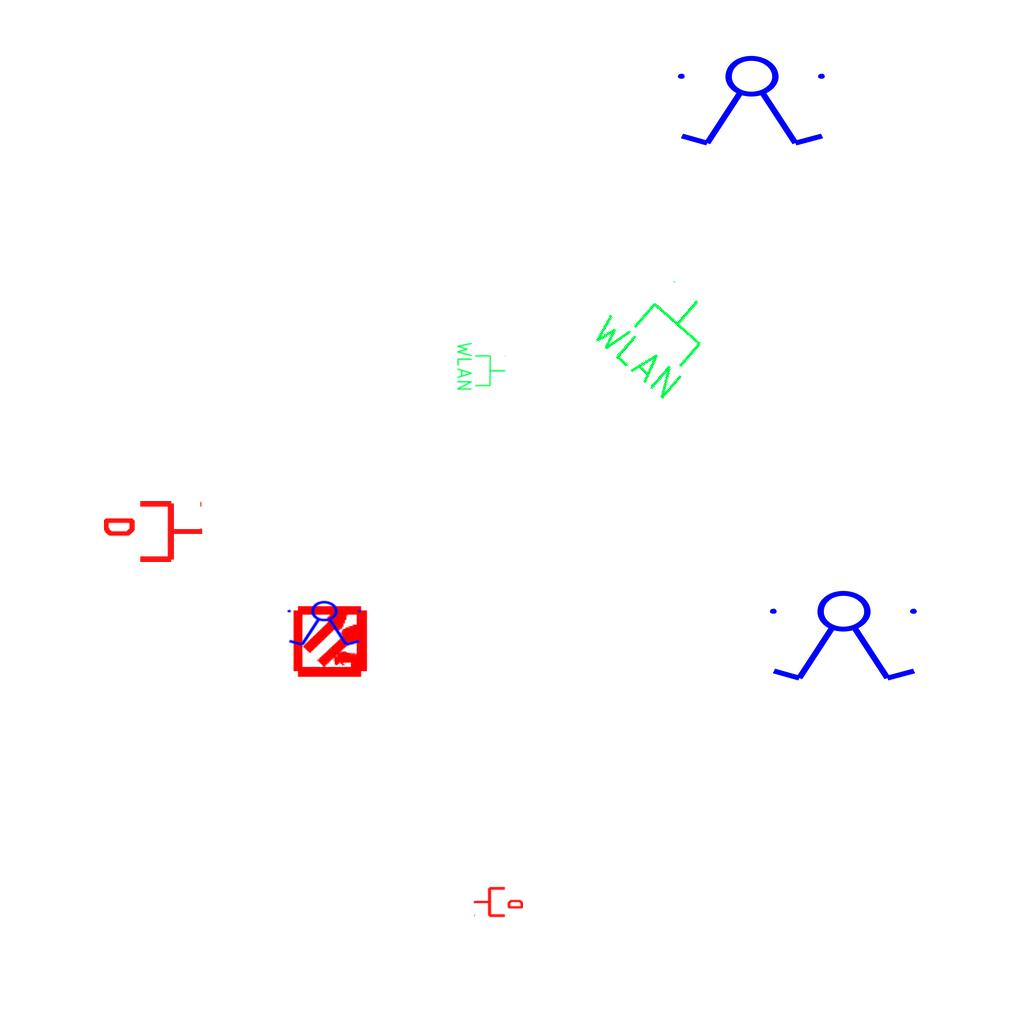Datenanschluss_einfach: (104, 497, 204, 566), (473, 885, 523, 919)
OT_Multisensormelder_(Kombination_RMO_WMD): (276, 585, 389, 698)
Serienschalter: (761, 589, 929, 685), (669, 54, 837, 150), (283, 600, 367, 648)
WLAN: (584, 257, 732, 406), (455, 340, 507, 392)
